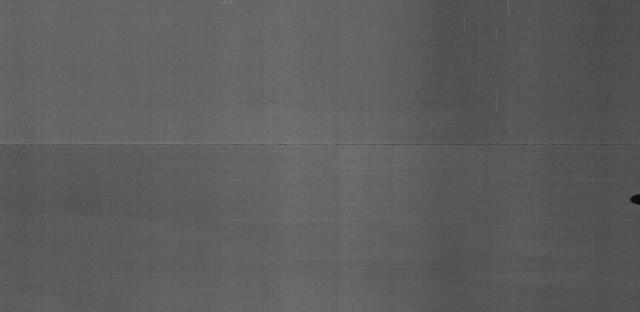punching_hole: (629, 192, 640, 205)
